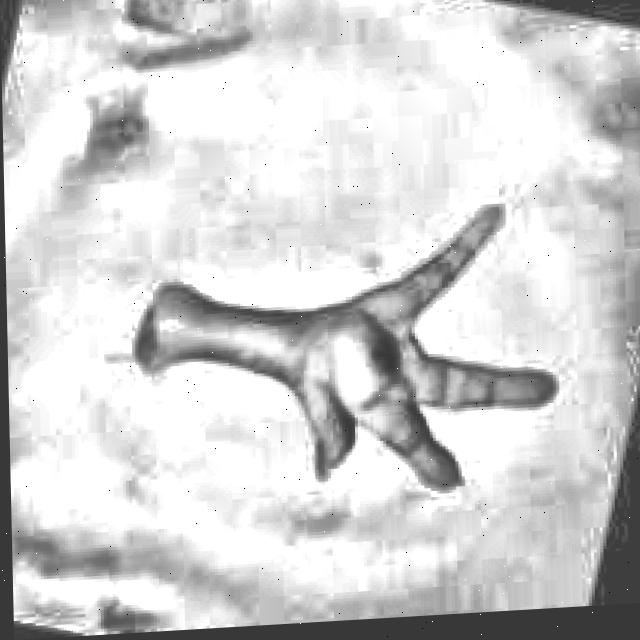Bumble foot: (128, 201, 562, 510)
